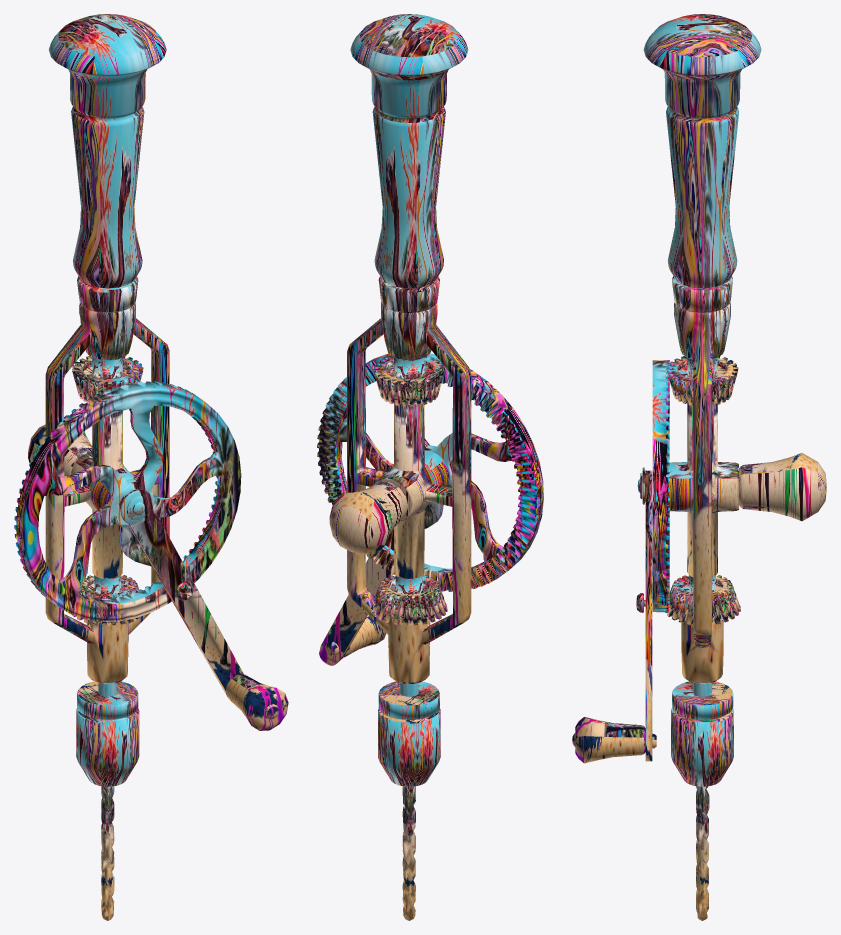
Rendered from ph_vintage_hand_drill.glb.
The picture shows the model from 3 angles, left to right: view 1: azimuth 30°, elevation 25°; view 2: azimuth 150°, elevation 25°; view 3: azimuth 270°, elevation 25°; orthographic projection.
Parts seen in each view (by area): view 1: A; view 2: A; view 3: A.
Part boxes in pixels (x1,y1,x2,y2): A: (14,14,288,920); A: (317,14,543,920); A: (572,14,826,920).
Bounding box in the file's own units: 0.5404 × 2 × 0.5152.
5 materials, 5 textured.
